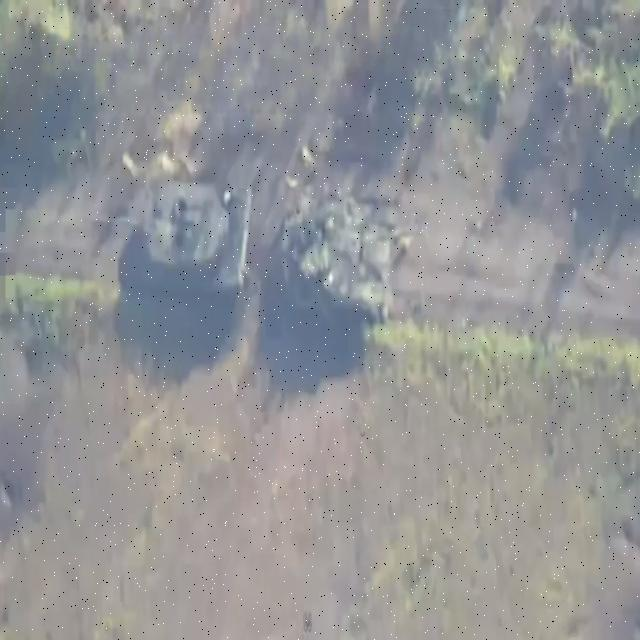MBT: (274, 193, 434, 327), (82, 177, 256, 291)
